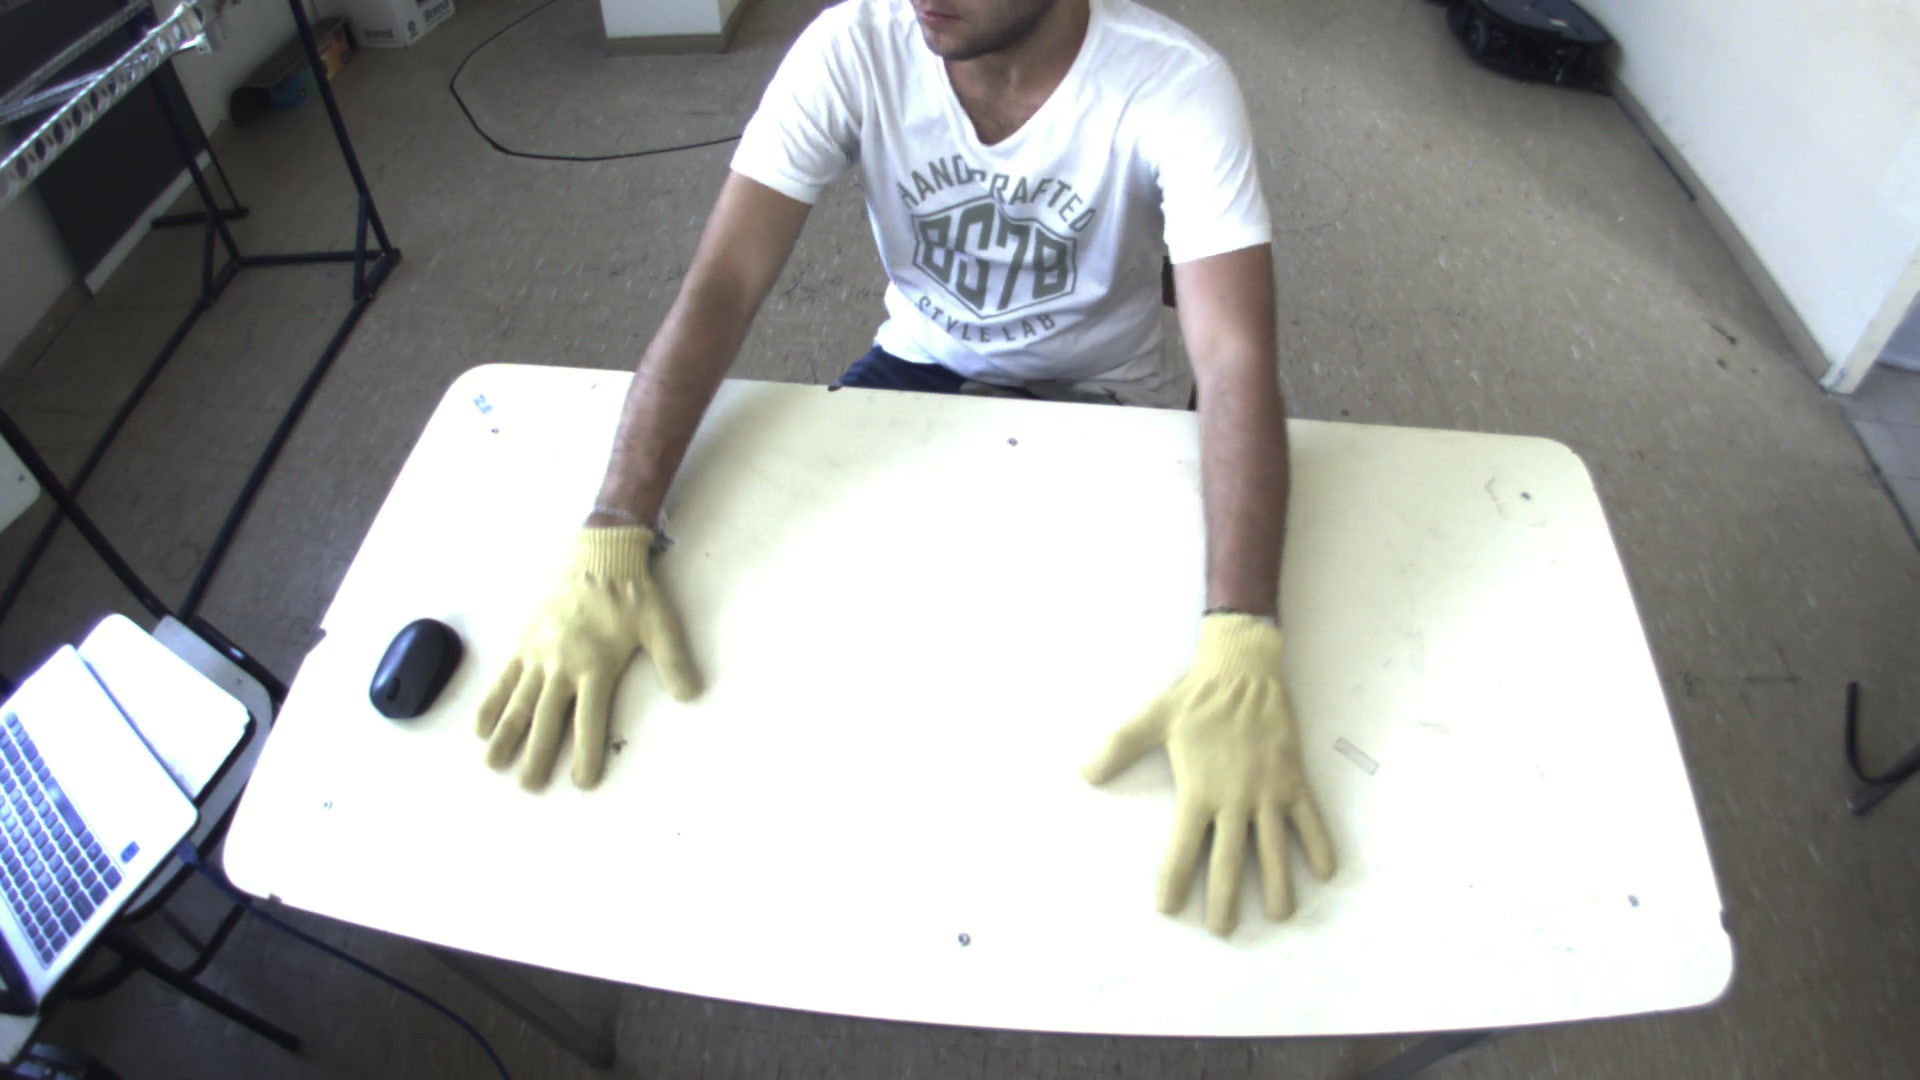hand: (1077, 608, 1371, 953), (452, 506, 713, 804)
